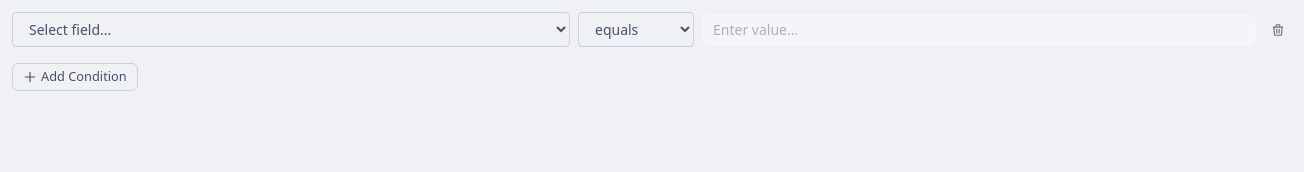
QueryBuilder › multiple conditions › adds new condition when clicking add button
Click the button "Add Condition". click: (75, 77)
box: [12, 63, 138, 91]
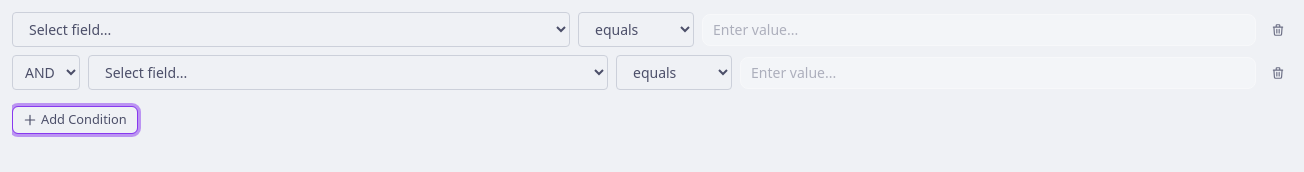
Expected: the number of buttons named "remove condition" is 2, [1264, 16, 1292, 44]; [1264, 58, 1292, 86]
